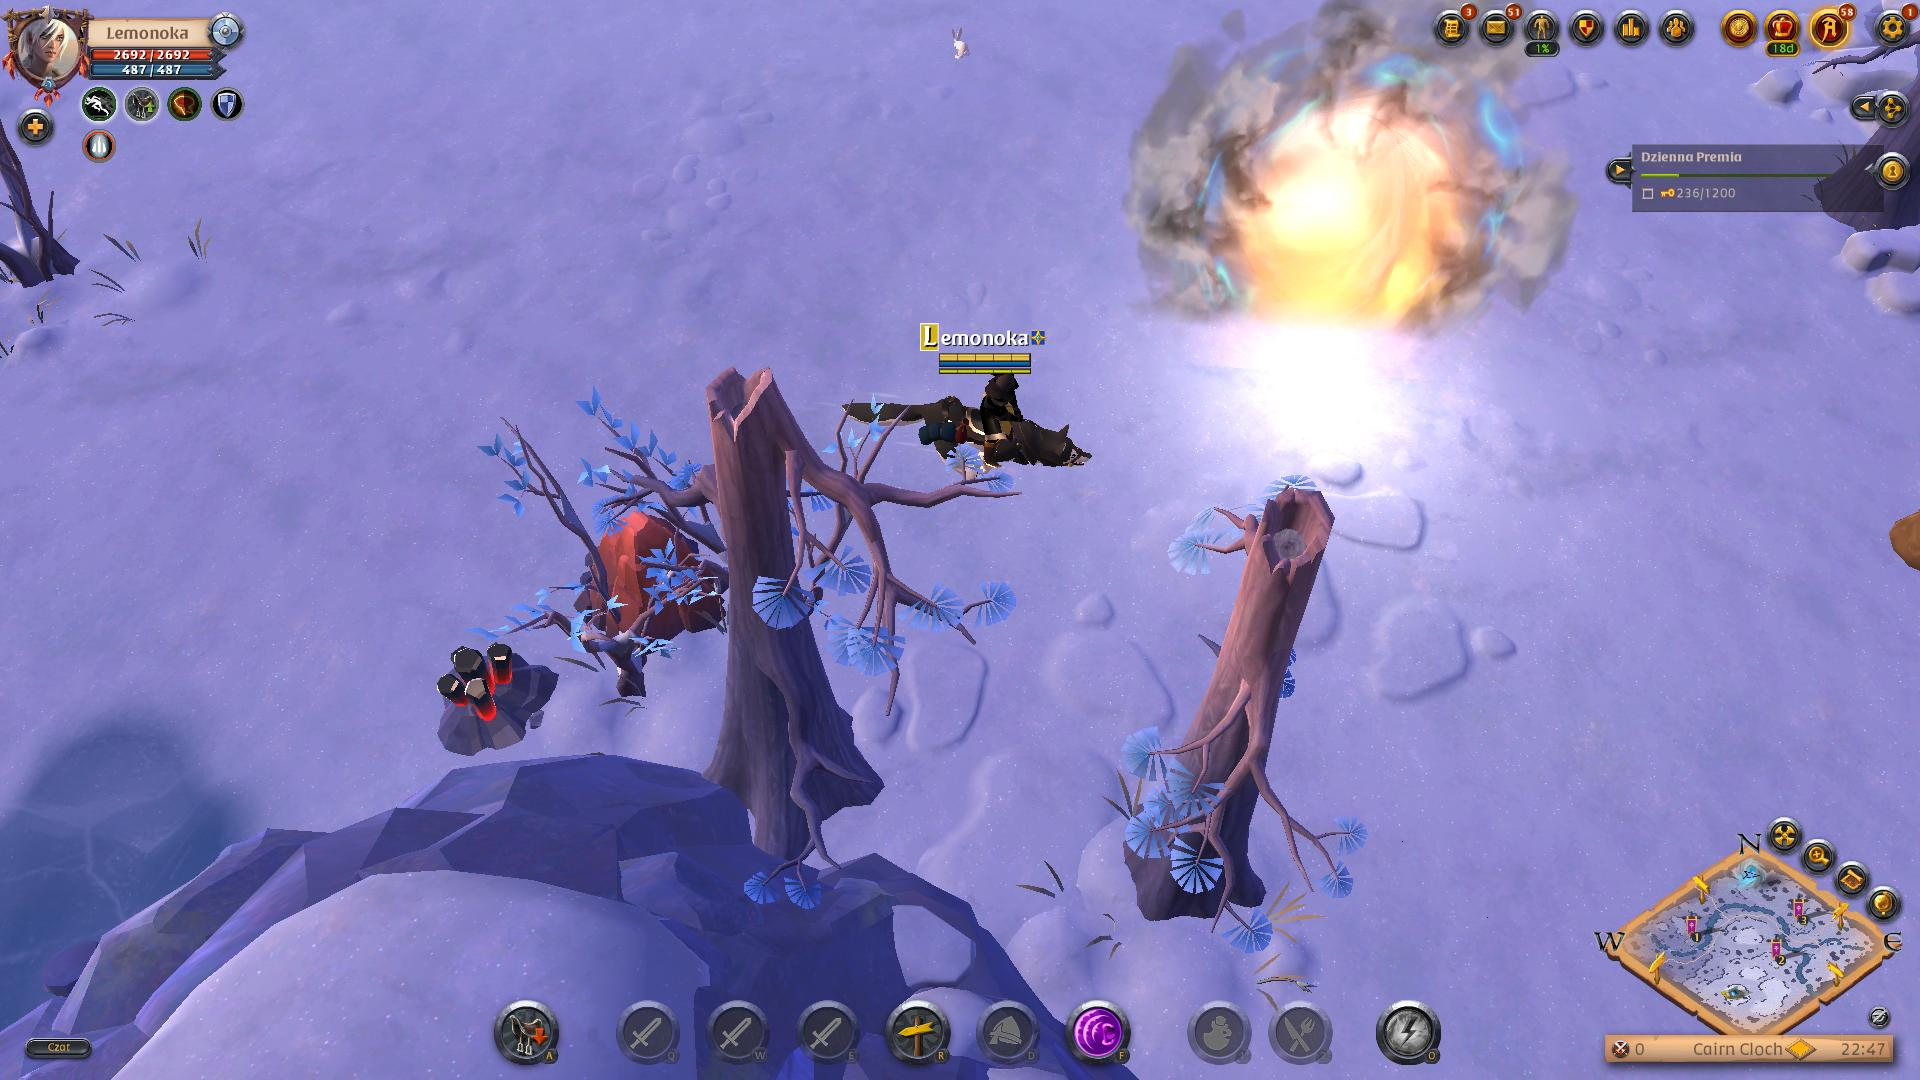ore tier 5: (421, 636, 551, 761)
